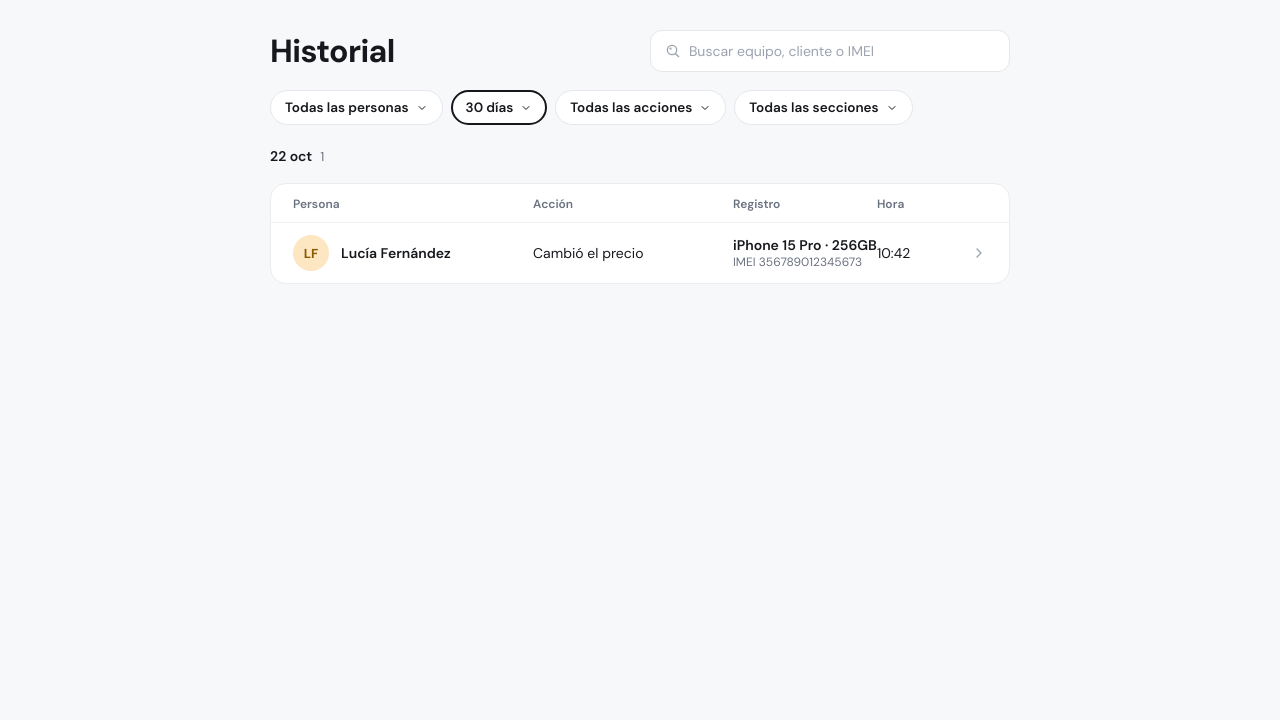
Test: Historial #372 › conserva la identidad completa y adapta la búsqueda y el registro (móvil=false)
The image size is (1280, 720).
Expected: the text "iPhone 15 Pro · 256GB" is shown, [733,236,877,254]
Expected: the text "iPhone 15 Pro · 256GB" does not show "Lucía", [733,236,877,254]
Type "5673" into the field. click: [842, 51]
box: [689,42,995,60]
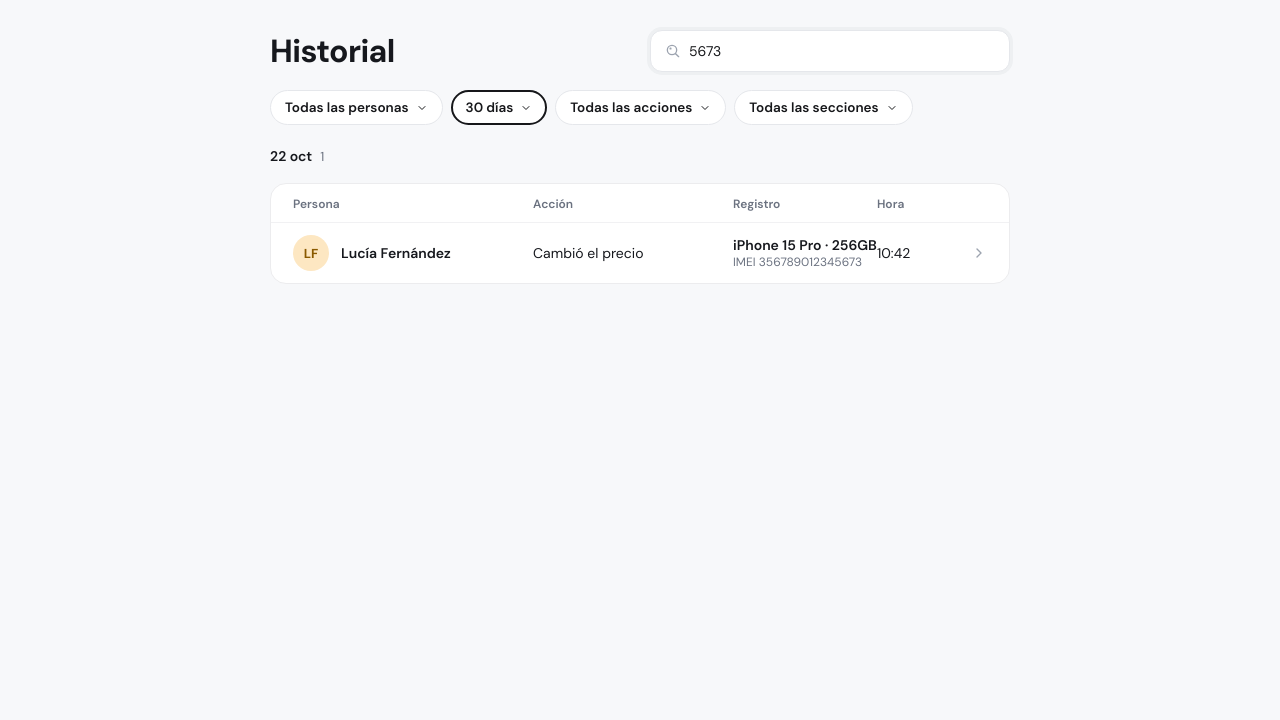
Click the dropdown named "Período". click: [499, 108]
box: [451,90,547,125]
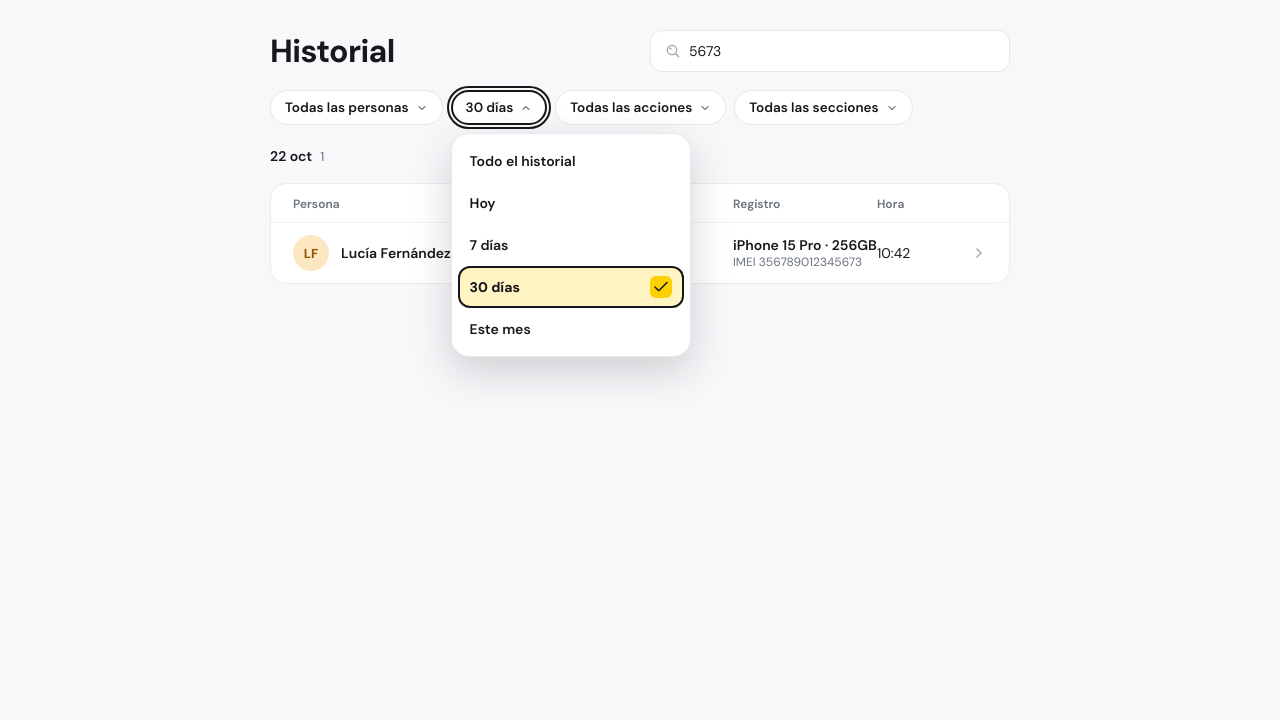
Click the option "7 días". click: [489, 245]
box: [470,236,508,254]
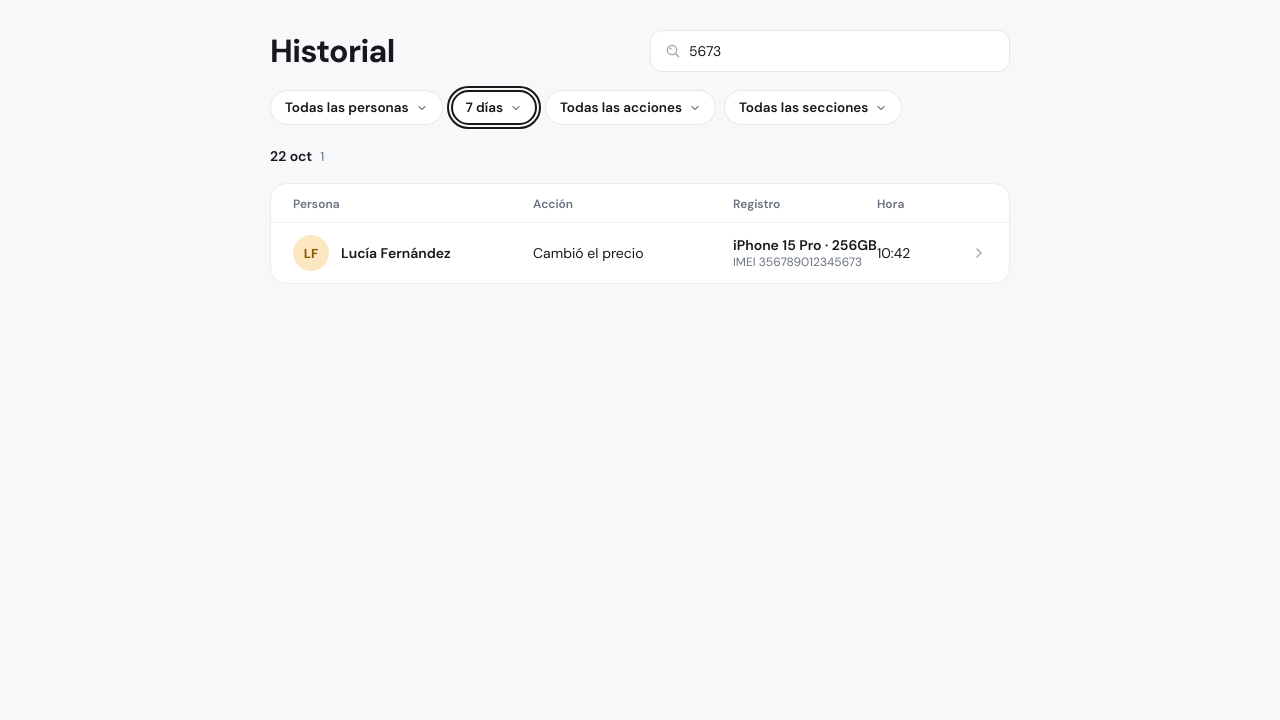
Click the button with aria-label "Lucía Fernández · Cambió el precio". click: [640, 253]
box: [271,223,1009,283]
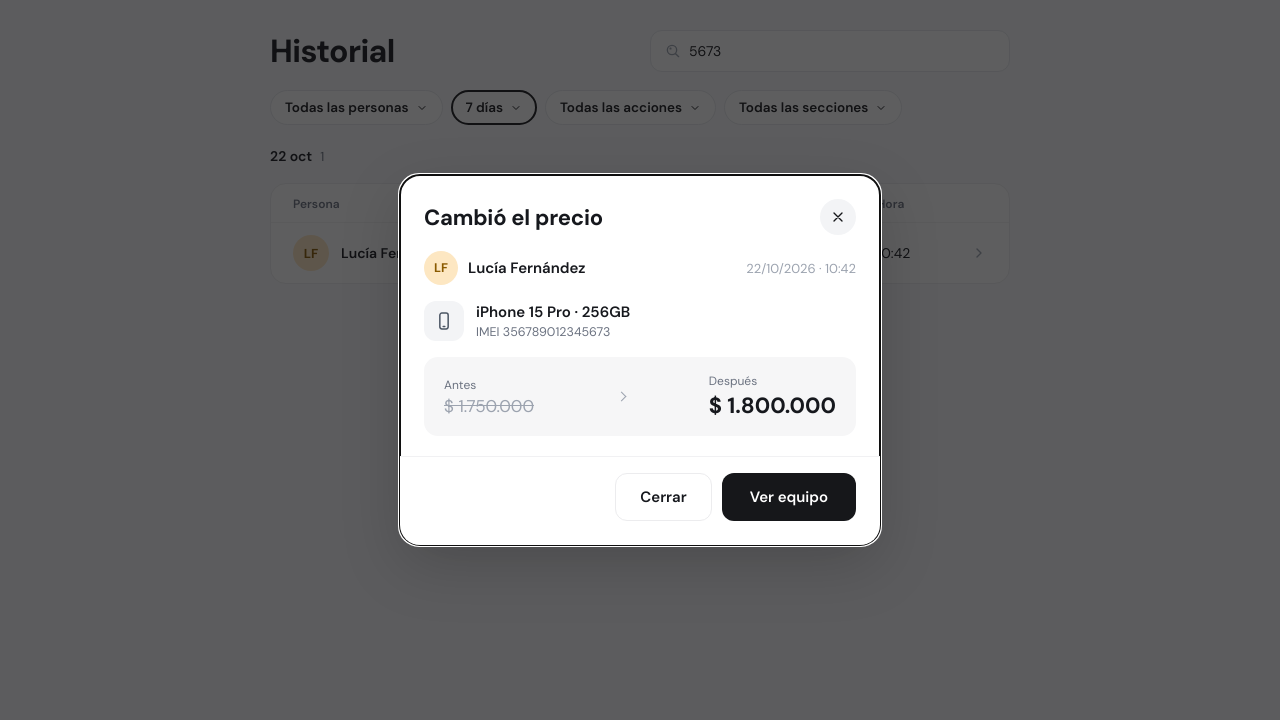
Result: the dialog shows "Lucía Fernández" at [468,258,586,278]
